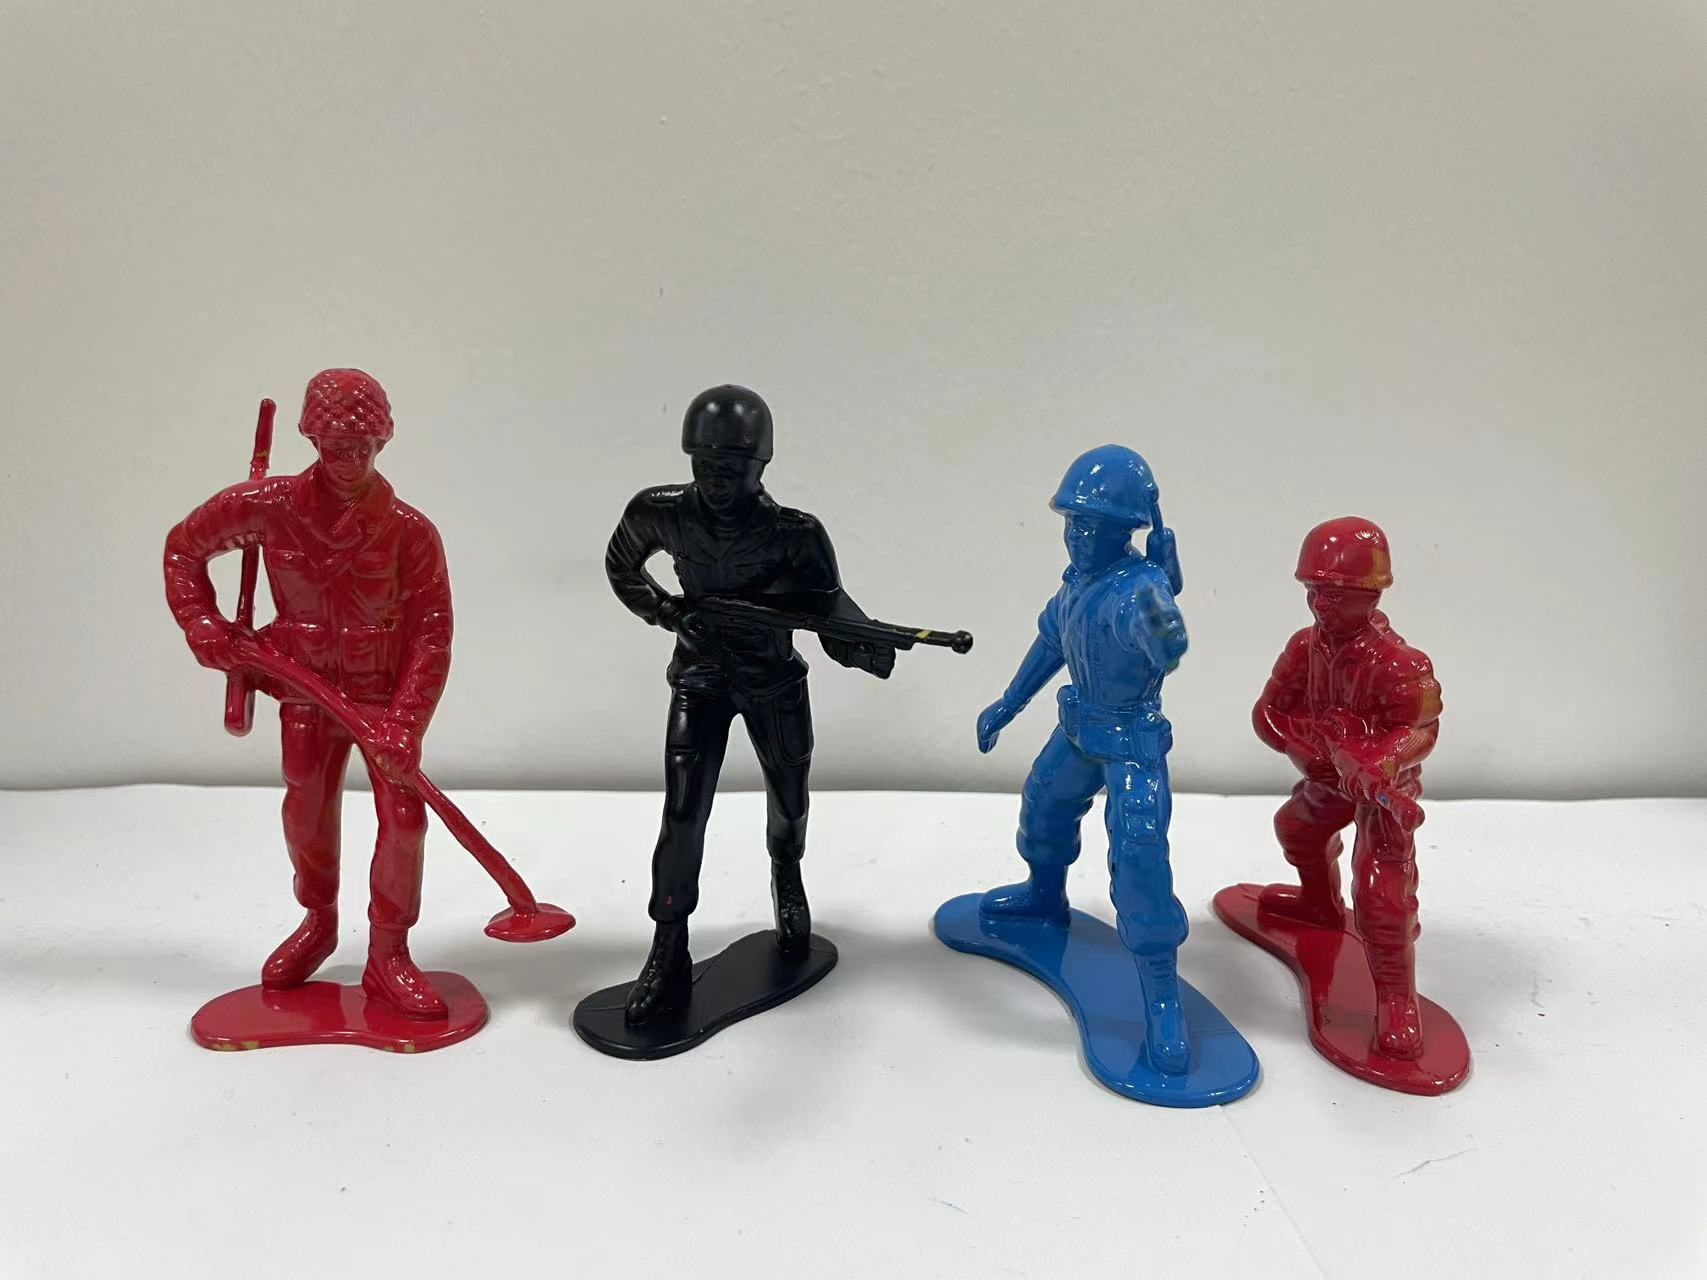black: (522, 368, 950, 1069)
blue: (949, 409, 1249, 1143)
red: (138, 350, 550, 1082), (1242, 493, 1575, 1140)
